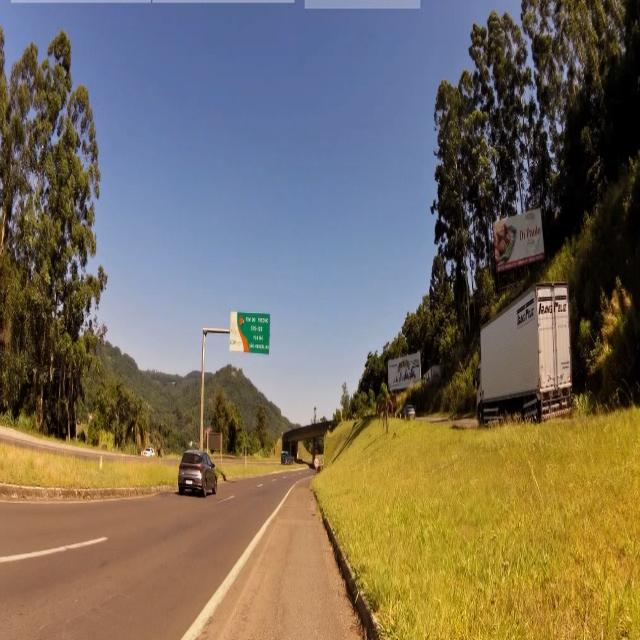I-4: (250, 314, 268, 354)
